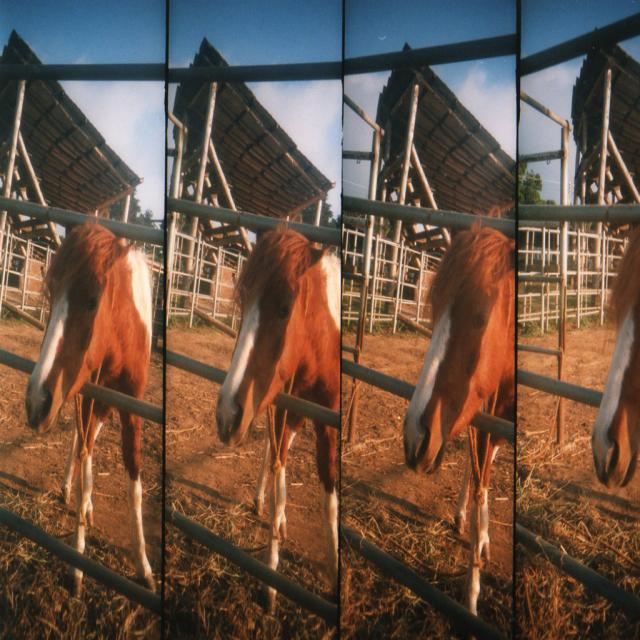Horse: (25, 219, 640, 640)
